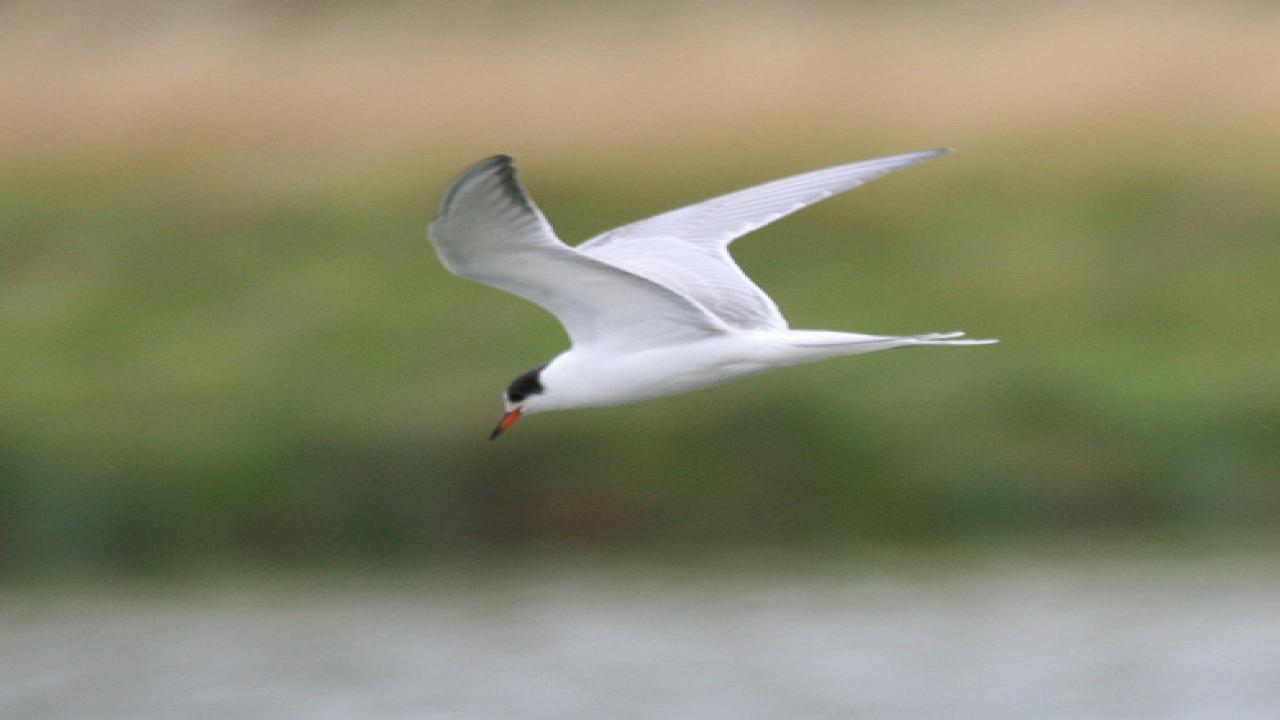Bird: (408, 142, 1024, 448)
